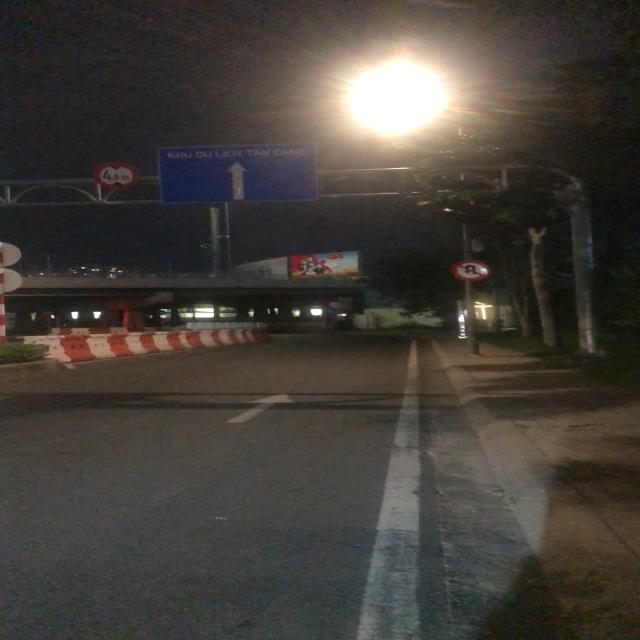Bien bao cam quay dau xe: (450, 256, 492, 282)
Bien bao han che chieu cao: (92, 161, 140, 189)
